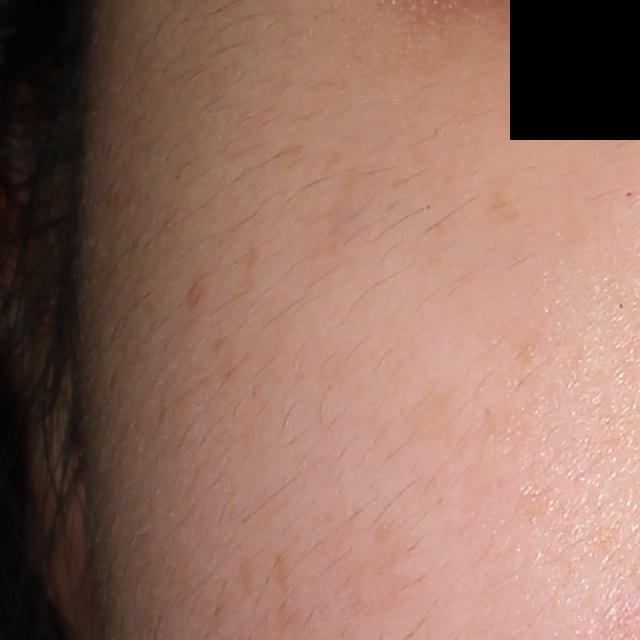melasma: (482, 182, 532, 227), (269, 551, 292, 594)
